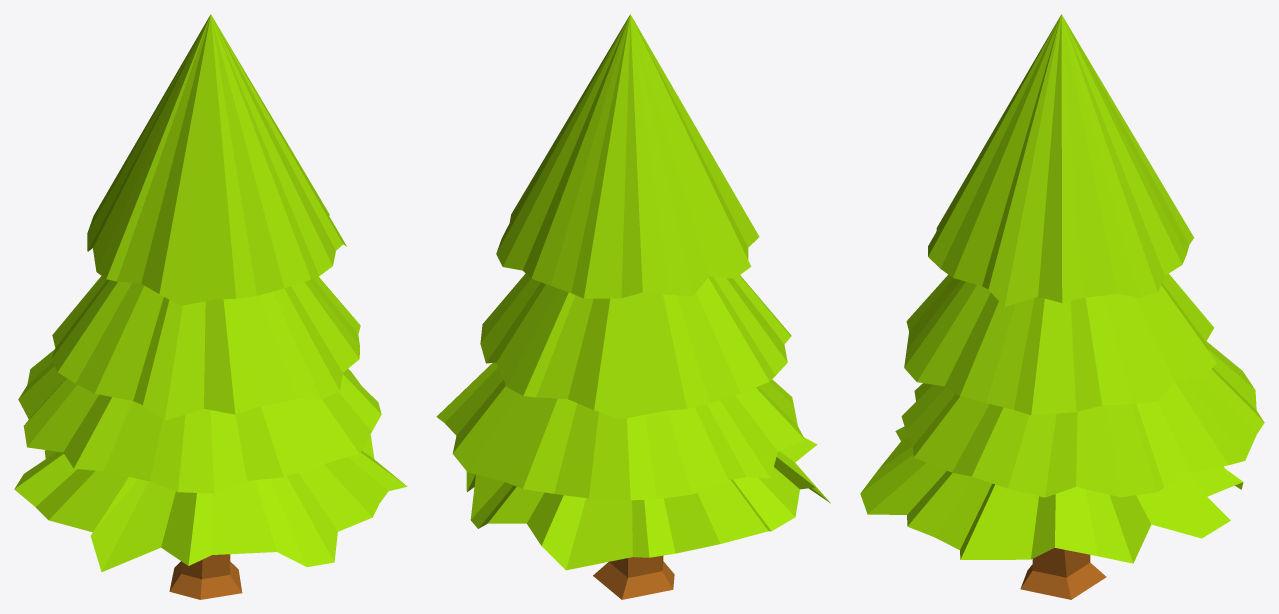
The model's file is spar3.fbx.
The picture shows the model from 3 angles, left to right: view 1: azimuth 30°, elevation 25°; view 2: azimuth 150°, elevation 25°; view 3: azimuth 270°, elevation 25°; orthographic projection.
Parts seen in each view (by area): view 1: Icosphere.003, Icosphere.002, Icosphere, Icosphere.001, Cylinder; view 2: Icosphere.003, Icosphere.002, Icosphere.001, Icosphere, Cylinder; view 3: Icosphere.003, Icosphere.002, Icosphere.001, Icosphere, Cylinder.
Part boxes in pixels (<box>): Icosphere.003: <box>87,14,346,305</box>; Icosphere.002: <box>51,276,360,420</box>; Icosphere: <box>14,435,407,571</box>; Icosphere.001: <box>18,349,381,493</box>; Cylinder: <box>169,554,242,599</box>; Icosphere.003: <box>496,14,759,298</box>; Icosphere.002: <box>480,273,791,419</box>; Icosphere.001: <box>436,362,804,500</box>; Icosphere: <box>466,437,830,570</box>; Cylinder: <box>593,555,674,599</box>; Icosphere.003: <box>928,14,1194,306</box>; Icosphere.002: <box>904,273,1216,415</box>; Icosphere.001: <box>901,341,1264,497</box>; Icosphere: <box>860,426,1243,563</box>; Cylinder: <box>1020,548,1106,599</box>.
Size of the model in its own units: 215 by 359 by 231.
